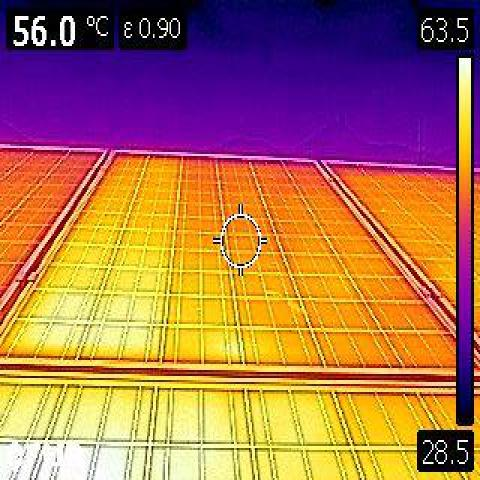fault: (0, 151, 185, 359)
